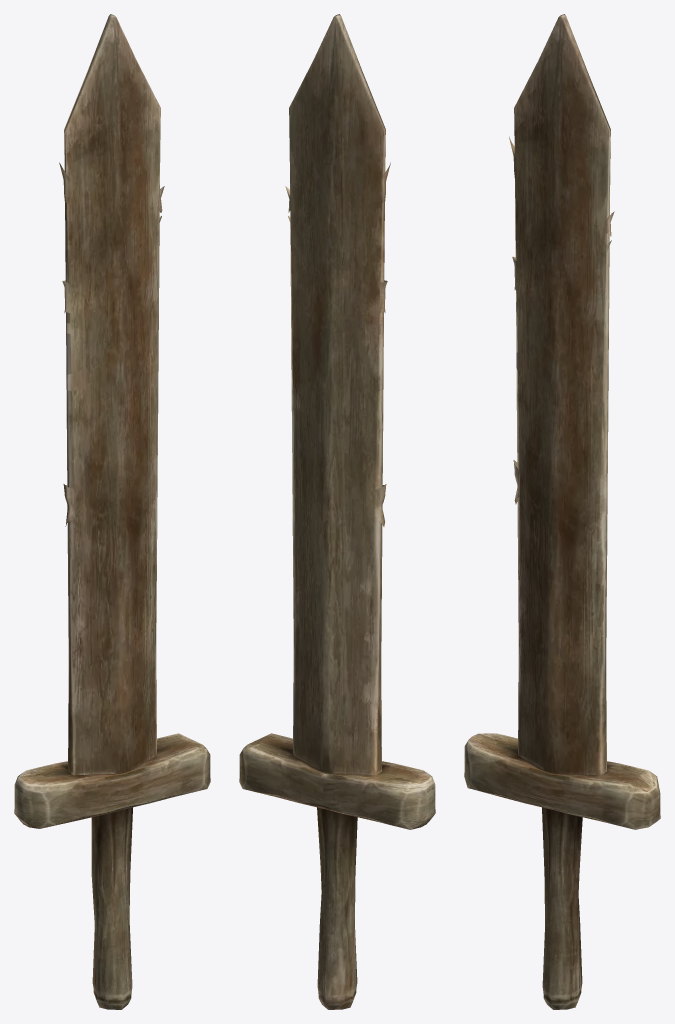
3 views of the same model, side by side, from view 1: azimuth 30°, elevation 25°; view 2: azimuth 150°, elevation 25°; view 3: azimuth 330°, elevation 25° (orthographic).
Visible parts, largest first — view 1: SM_Sword_WoodenTraining_1H_01_LOD0; view 2: SM_Sword_WoodenTraining_1H_01_LOD0; view 3: SM_Sword_WoodenTraining_1H_01_LOD0.
Part boxes in pixels (<box>): SM_Sword_WoodenTraining_1H_01_LOD0: <box>14,14,210,1009</box>; SM_Sword_WoodenTraining_1H_01_LOD0: <box>239,14,435,1009</box>; SM_Sword_WoodenTraining_1H_01_LOD0: <box>464,14,660,1009</box>.
Size of the model in its own units: 0.2221 by 1.12 by 0.0605.
1 material, 1 textured.
